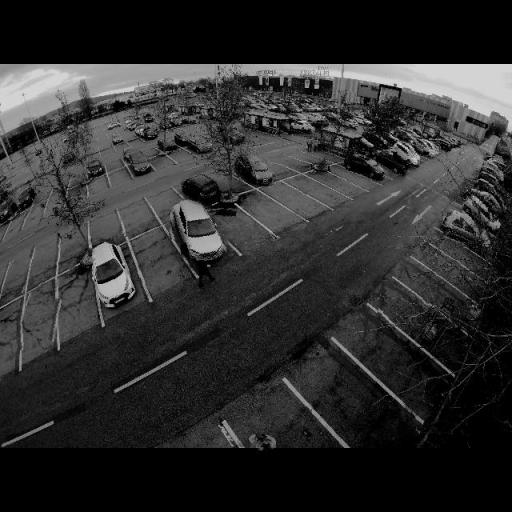busy: (166, 200, 234, 264), (89, 236, 138, 306), (233, 154, 277, 186), (442, 216, 486, 248), (182, 172, 222, 204), (345, 154, 385, 182), (465, 188, 505, 214), (460, 203, 498, 229), (124, 150, 152, 176), (392, 142, 424, 164), (374, 151, 404, 174), (473, 174, 505, 194), (11, 187, 37, 211), (182, 134, 213, 154), (222, 124, 247, 145), (411, 138, 440, 156), (287, 118, 313, 134), (155, 134, 178, 152), (84, 158, 105, 176), (0, 197, 14, 224), (308, 114, 330, 130), (143, 126, 161, 141), (110, 135, 125, 145), (106, 121, 120, 130), (124, 121, 136, 130)
free: (253, 408, 315, 450), (312, 370, 362, 409), (378, 290, 428, 329), (20, 294, 62, 340), (139, 240, 181, 283), (54, 280, 96, 323), (362, 334, 403, 366), (29, 248, 59, 286), (120, 204, 156, 231), (54, 233, 88, 261), (6, 255, 29, 294), (92, 216, 124, 244), (0, 315, 23, 351), (153, 184, 180, 214), (81, 176, 111, 200), (222, 216, 252, 235), (435, 258, 461, 276), (22, 208, 44, 227), (250, 202, 276, 217), (5, 221, 27, 237), (217, 176, 239, 190), (443, 242, 463, 257), (278, 191, 300, 204), (416, 280, 438, 293), (302, 184, 322, 194), (272, 162, 285, 176), (151, 158, 169, 168), (112, 171, 128, 181), (343, 172, 358, 182), (176, 152, 190, 162), (306, 157, 320, 166), (325, 178, 339, 186), (286, 160, 300, 168)
